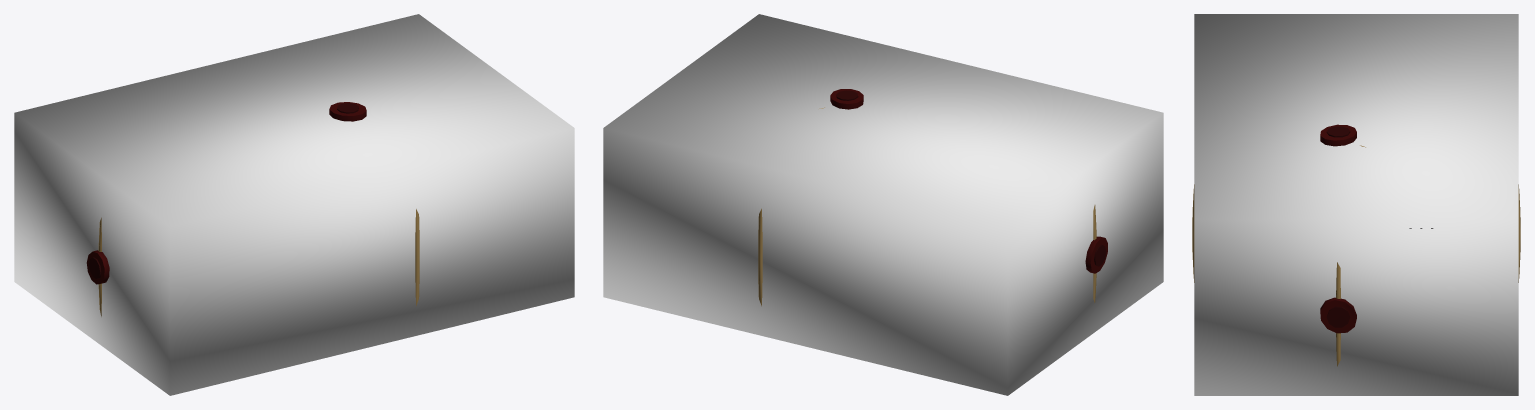
The model's file is paquete_correos.glb.
The picture shows the model from 3 angles, left to right: view 1: azimuth 30°, elevation 25°; view 2: azimuth 150°, elevation 25°; view 3: azimuth 270°, elevation 25°; orthographic projection. The views are drawn at different scales.
Parts seen in each view (by area): view 1: paquete-colcaja, lacre, cordel; view 2: paquete-colcaja, lacre, cordel; view 3: paquete-colcaja, lacre, cordel.
Boxes of the visible parts, x1,y1,x2,y2 form: paquete-colcaja: (14,14,574,395); lacre: (86,102,366,284); cordel: (98,209,419,316); paquete-colcaja: (603,14,1163,395); lacre: (830,89,1107,273); cordel: (758,107,1096,306); paquete-colcaja: (1194,14,1518,395); lacre: (1320,124,1356,333); cordel: (1192,145,1520,366).
Size of the model in its own units: 0.2786 by 0.1174 by 0.1823.
